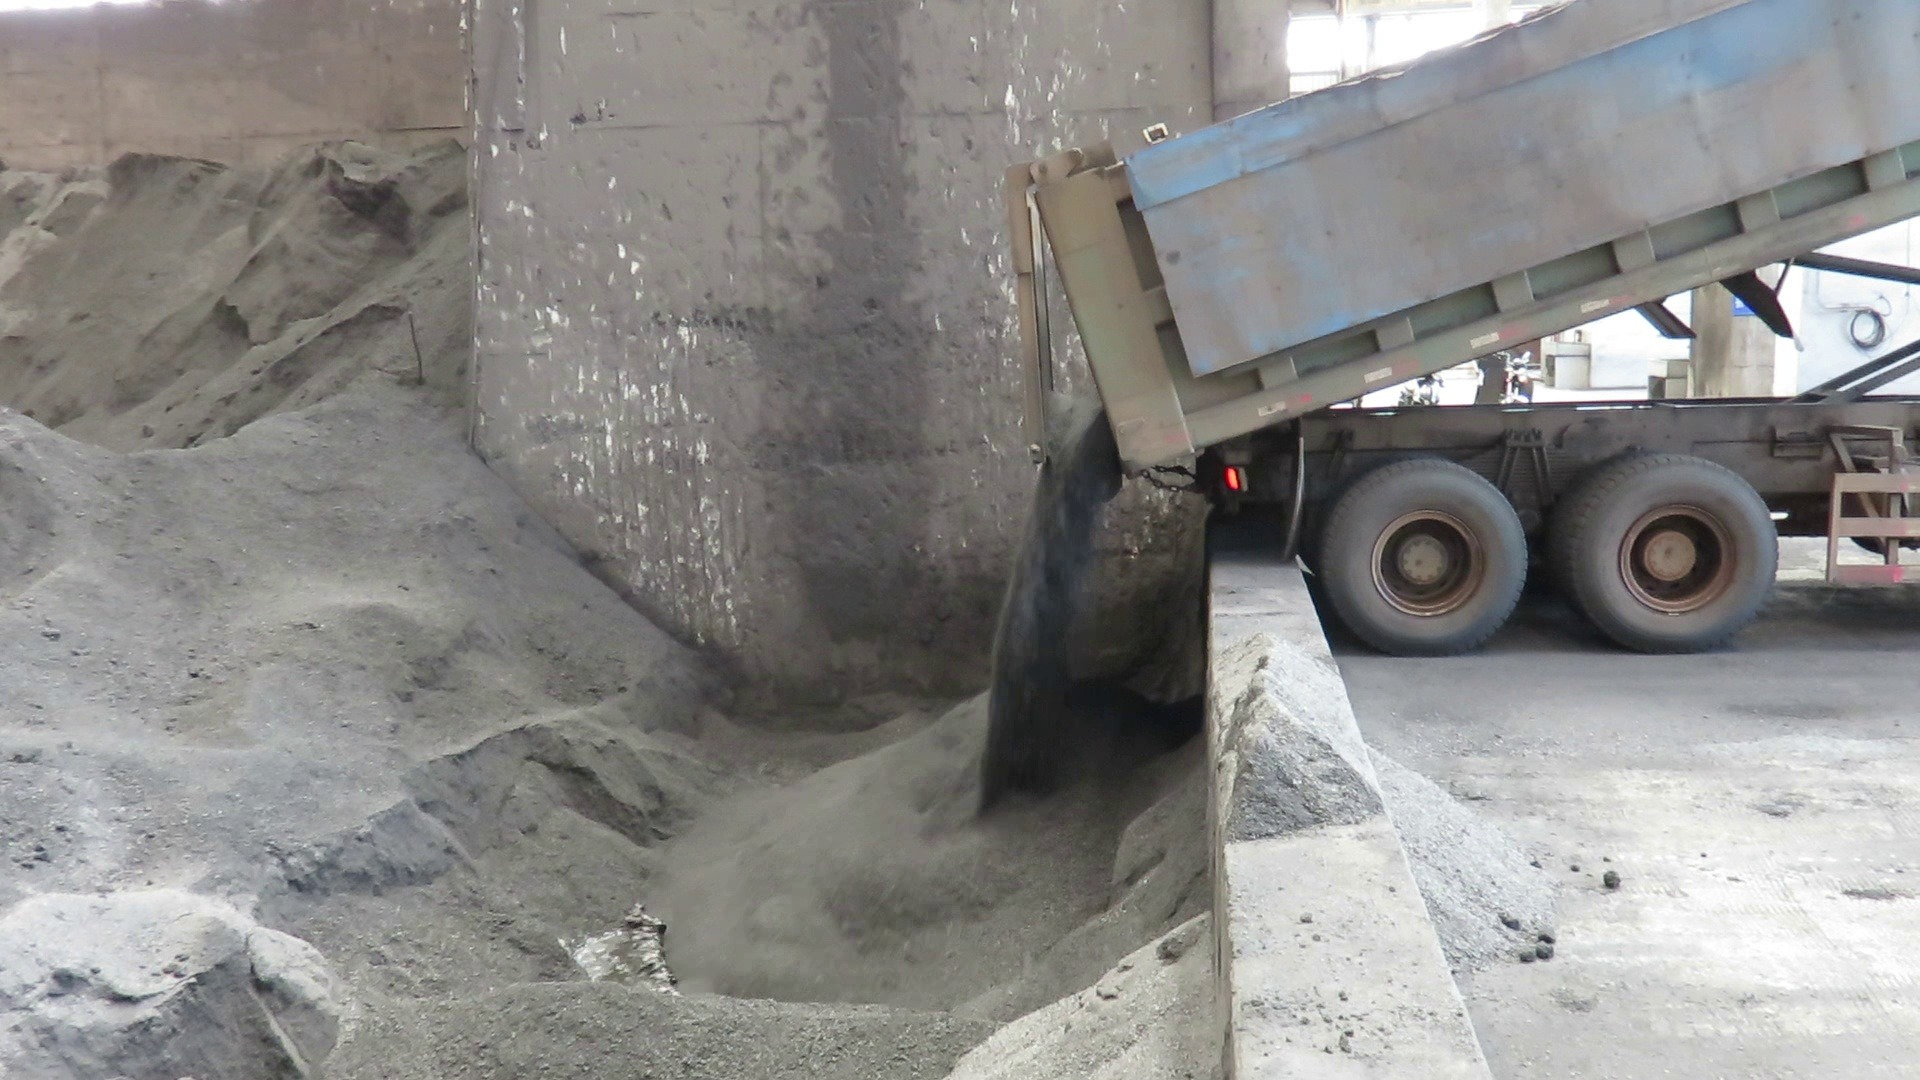truck: (988, 0, 1920, 658)
